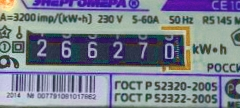0: (161, 40, 175, 60)
2: (34, 37, 47, 58), (111, 40, 124, 60)
6: (59, 38, 71, 59), (85, 39, 98, 58)
7: (137, 40, 147, 59)
screen: (13, 19, 196, 77)
